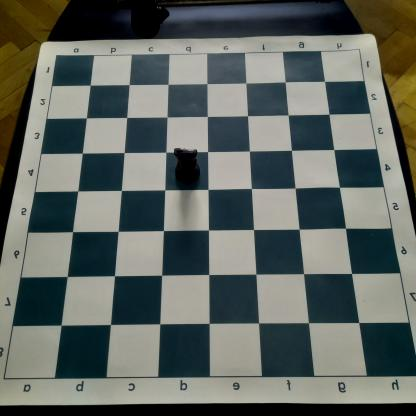black-knight: (174, 147, 201, 184)
